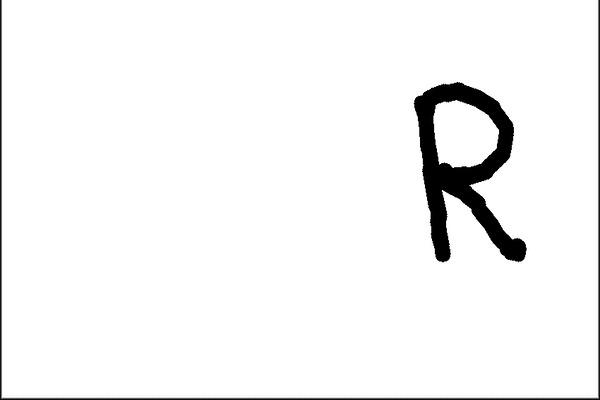R: (396, 70, 538, 267)
